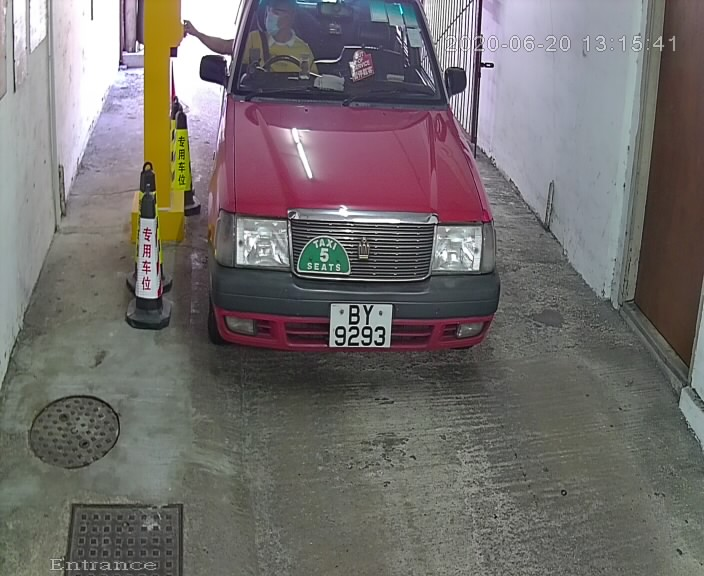taxi: (203, 2, 509, 376)
taxi_mark: (292, 231, 353, 281)
